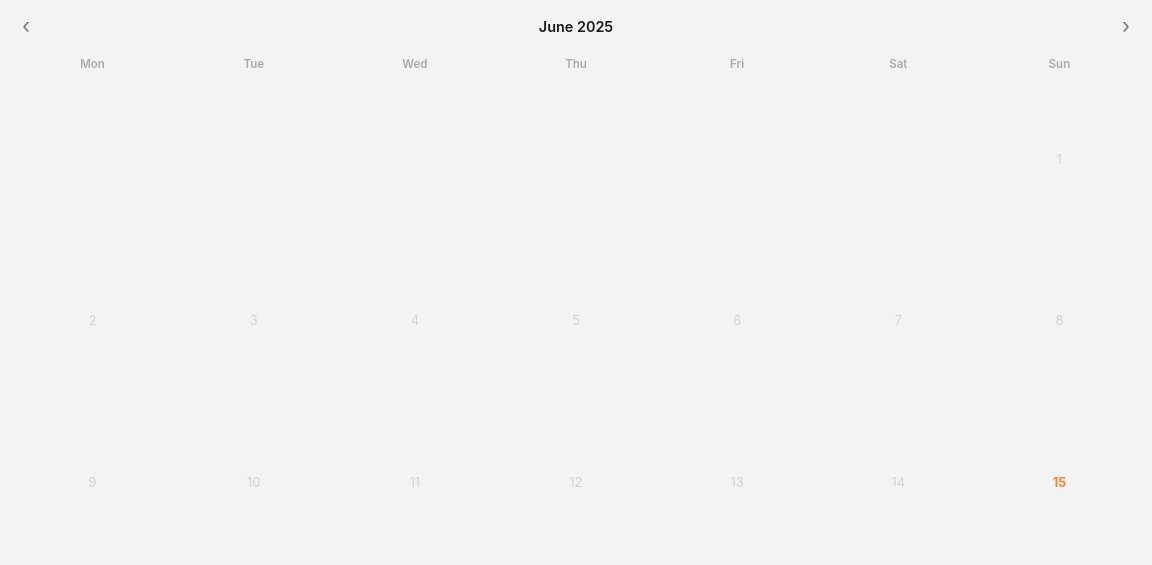
it: MiniCalendar › navigates to the previous month
This screenshot has width=1152, height=565.
Click the button named "previous month" at {"x": 26, "y": 26}, box [14,14,38,39]
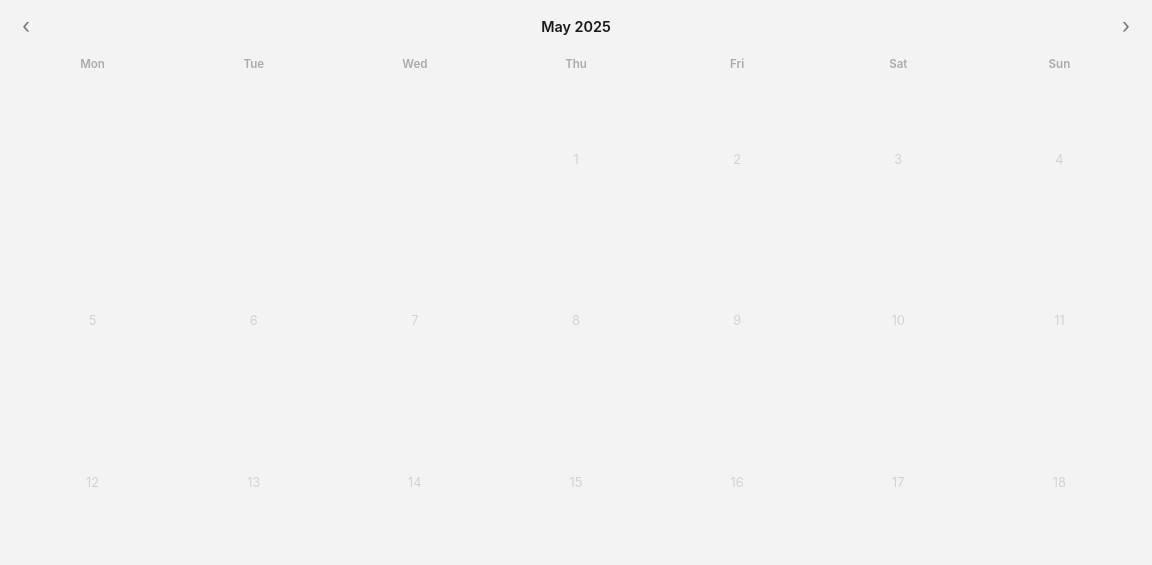
expect the text "May 2025" is shown: met, box [541,15,611,38]
